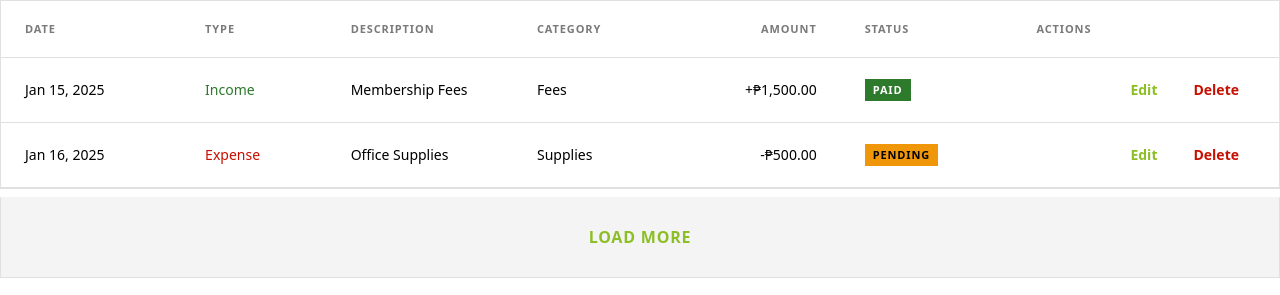
Test case: EntryTable Component › renders Load More button and handles loadMore action
Click the button with test id "admin-load-more-btn": (640, 236) top-left (573, 212), bottom-right (707, 260)
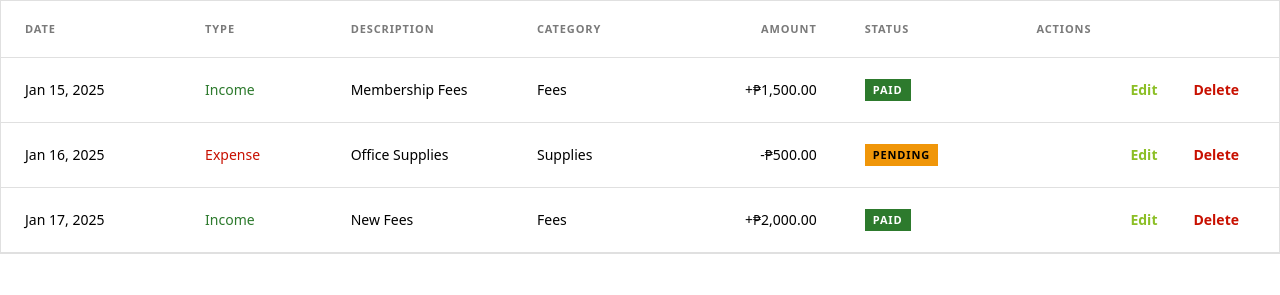
Now the text "New Fees" is shown, box top-left (327, 187), bottom-right (513, 252)
Now the button with test id "admin-load-more-btn" is gone
